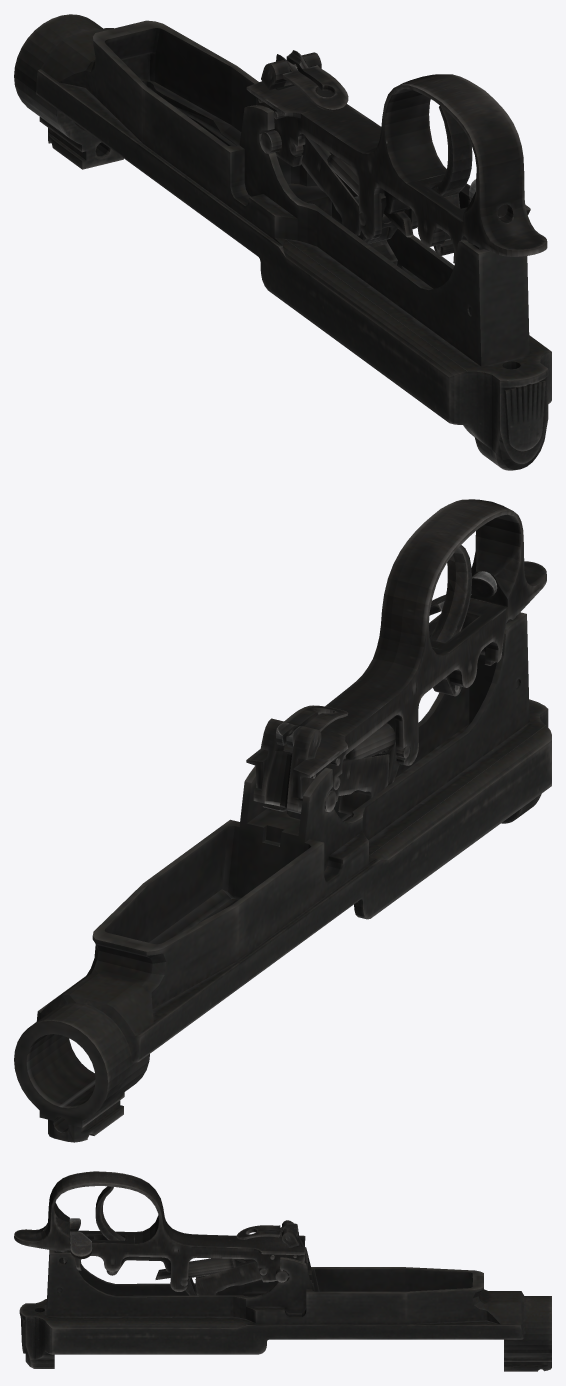
The picture shows the model from 3 angles, top to bottom: view 1: azimuth 30°, elevation 25°; view 2: azimuth 150°, elevation 25°; view 3: azimuth 270°, elevation 25°; orthographic projection. The views are drawn at different scales.
Parts seen in each view (by area): view 1: TW_6410733d5dd49d77bd07847e_PZ_Import; view 2: TW_6410733d5dd49d77bd07847e_PZ_Import; view 3: TW_6410733d5dd49d77bd07847e_PZ_Import.
Part boxes in pixels (x1,y1,x2,y2): TW_6410733d5dd49d77bd07847e_PZ_Import: (14, 14, 551, 470); TW_6410733d5dd49d77bd07847e_PZ_Import: (14, 499, 551, 1142); TW_6410733d5dd49d77bd07847e_PZ_Import: (14, 1171, 551, 1371).
Bounding box in the file's own units: 0.0199 × 0.1573 × 0.0618.
Materials: 1 (1 with a texture image).
